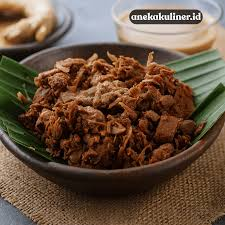Gudeg: (23, 55, 194, 165)
